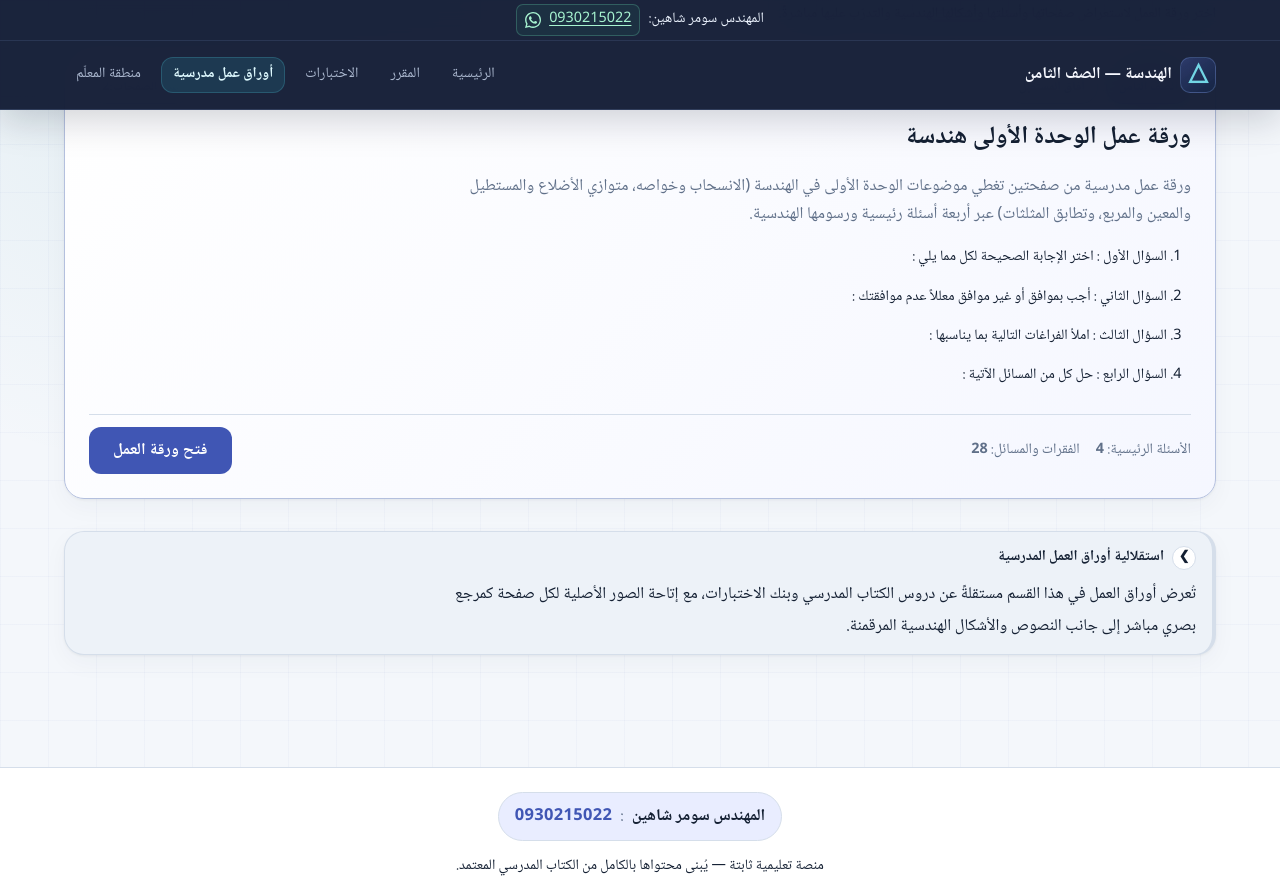
School Worksheets («أوراق عمل مدرسية») — Navigation & UI Rendering › renders the WorksheetsPage catalog and navigates to the worksheet detail page
The width and height of the screenshot is (1280, 886).
(page scrolled)
expect the heading "ورقة عمل الوحدة الأولى هندسة" is shown: met, box [905, 116, 1191, 159]
expect the text "آفاق المستقبل" is shown: met, box [1006, 70, 1098, 104]
Click the link "فتح ورقة العمل".
click(160, 450)  # box [89, 427, 232, 474]
(page scrolled)
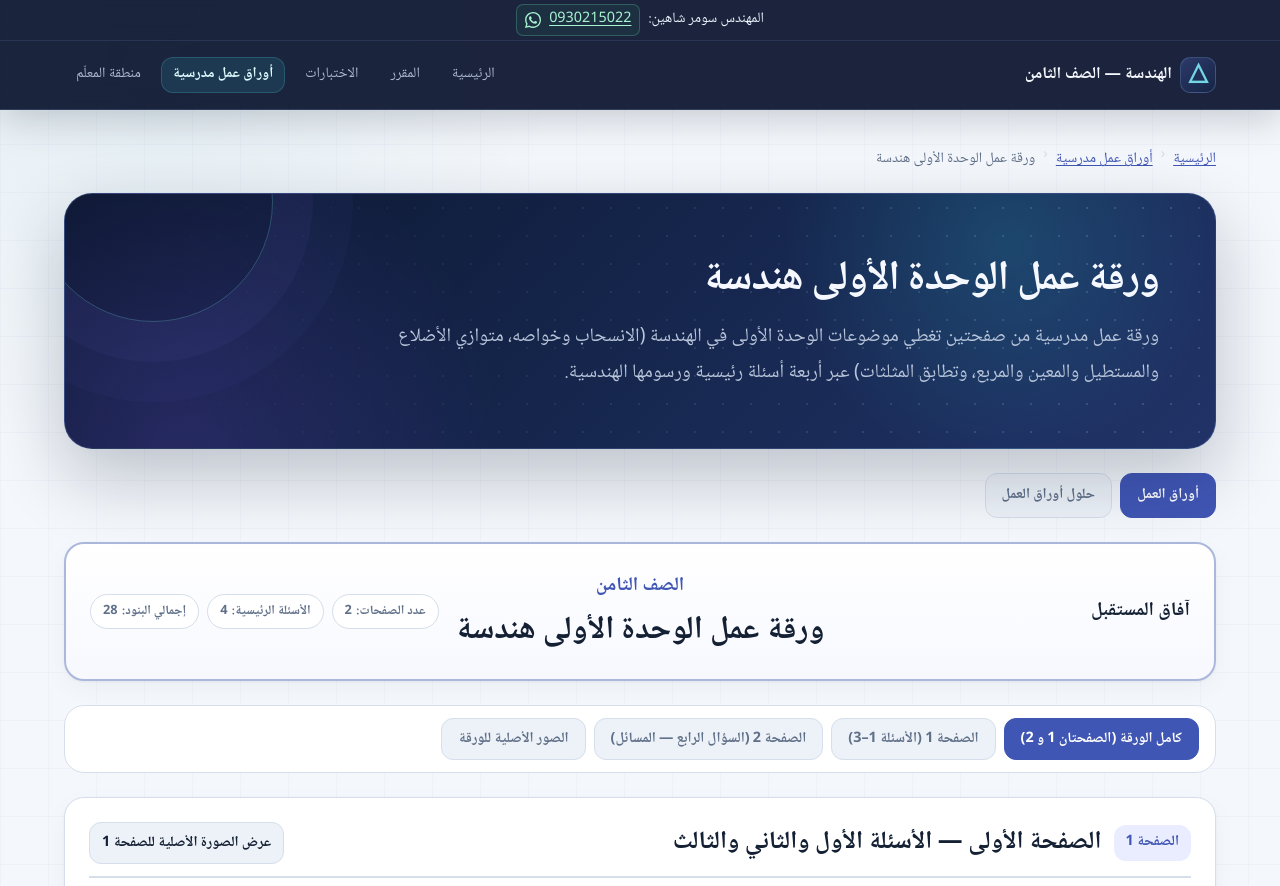
expect the 1st heading "ورقة عمل الوحدة الأولى هندسة" is shown: met, box [703, 245, 1159, 315]
